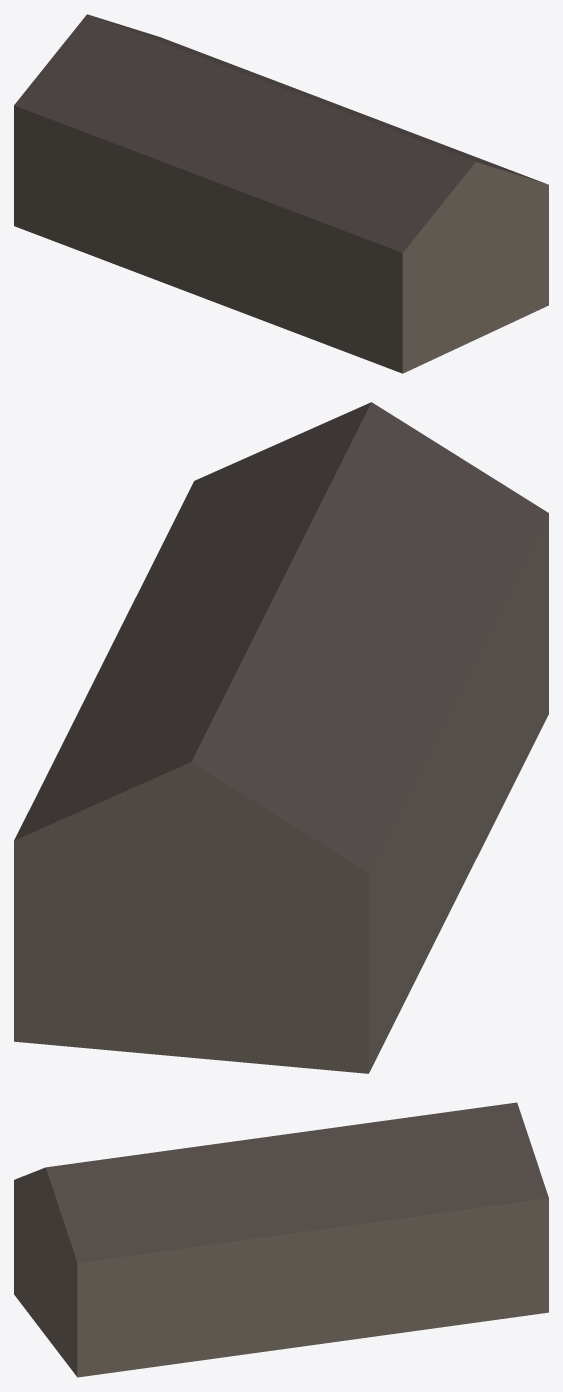
3 views of the same model, one above another, from view 1: azimuth 30°, elevation 25°; view 2: azimuth 150°, elevation 25°; view 3: azimuth 270°, elevation 25° (orthographic). The views are drawn at different scales.
Parts seen in each view (by area): view 1: HP-w408450791; view 2: HP-w408450791; view 3: HP-w408450791.
Boxes of the visible parts, x1,y1,x2,y2 form: HP-w408450791: [14, 14, 548, 373]; HP-w408450791: [14, 402, 548, 1073]; HP-w408450791: [14, 1102, 548, 1377].
Bounding box in the file's own units: 16.65 × 8.84 × 25.41.
